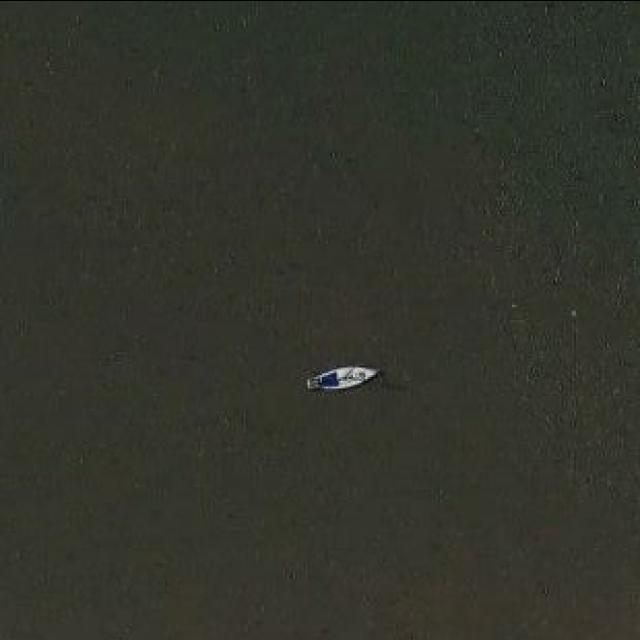ship: (306, 361, 380, 391)
